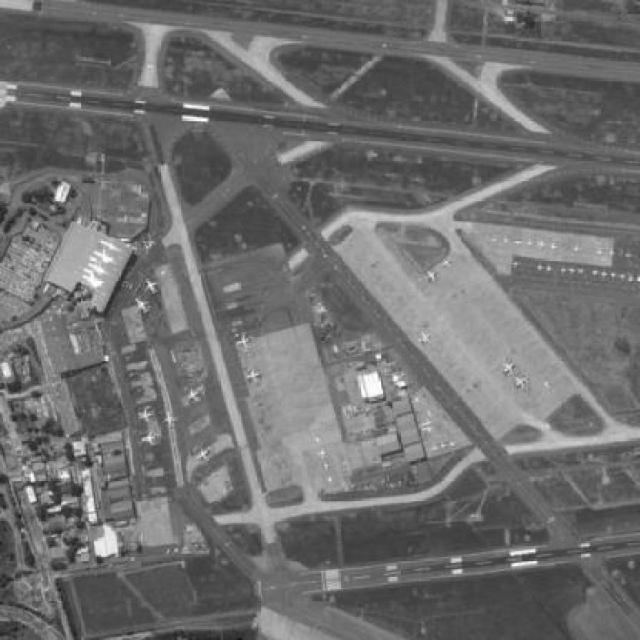airplane: (237, 333, 256, 353), (142, 430, 159, 450), (186, 388, 205, 405), (135, 298, 152, 316), (418, 331, 435, 348), (246, 369, 263, 385), (141, 408, 155, 425), (164, 413, 178, 430), (514, 377, 528, 393), (197, 448, 213, 462), (147, 280, 160, 296), (503, 363, 517, 377), (443, 257, 454, 271), (427, 272, 441, 283), (491, 233, 500, 246), (514, 236, 523, 249), (318, 451, 329, 460), (540, 239, 547, 252), (528, 241, 537, 250), (413, 397, 422, 406), (550, 243, 558, 252)
